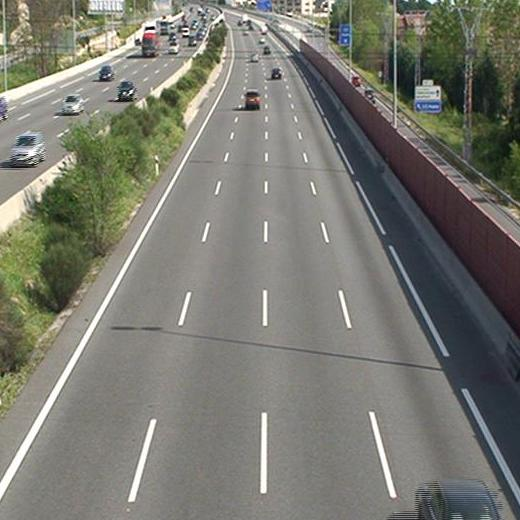car: (242, 89, 261, 108), (270, 66, 282, 79), (250, 53, 259, 62)
